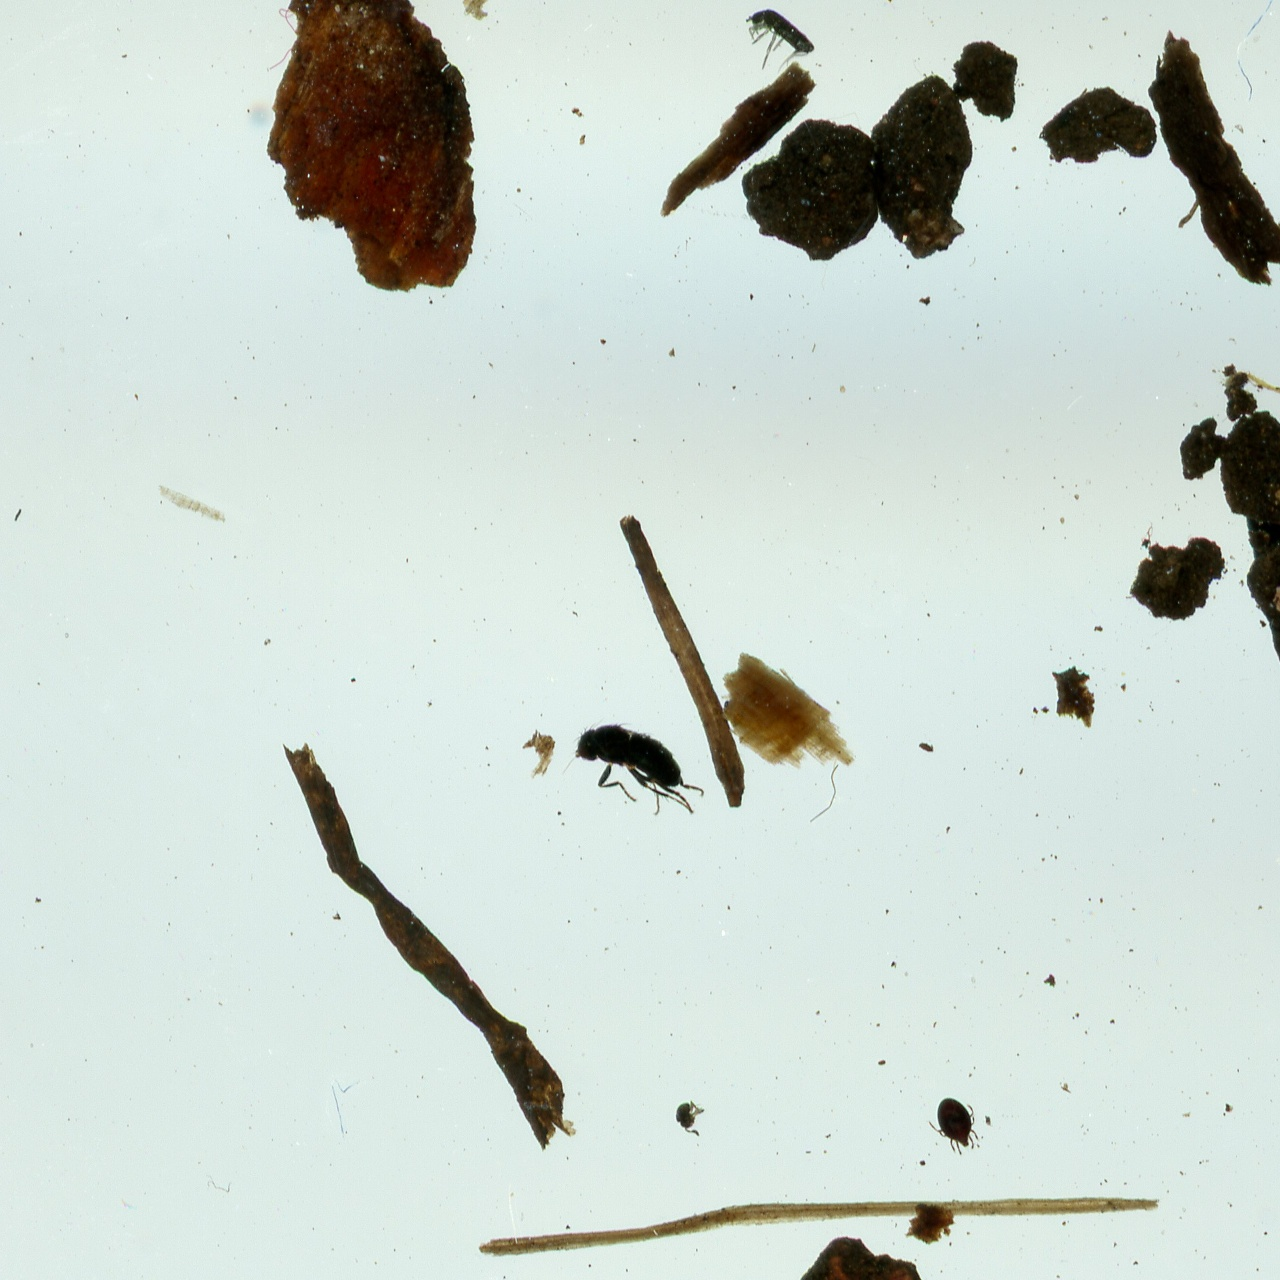arthropod: (556, 711, 708, 823), (917, 1083, 994, 1168), (735, 3, 818, 78)
